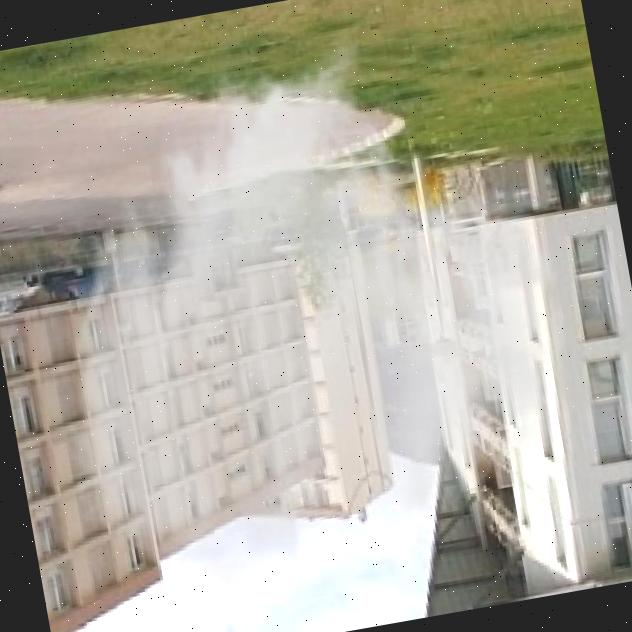smoke: (2, 1, 612, 627)
